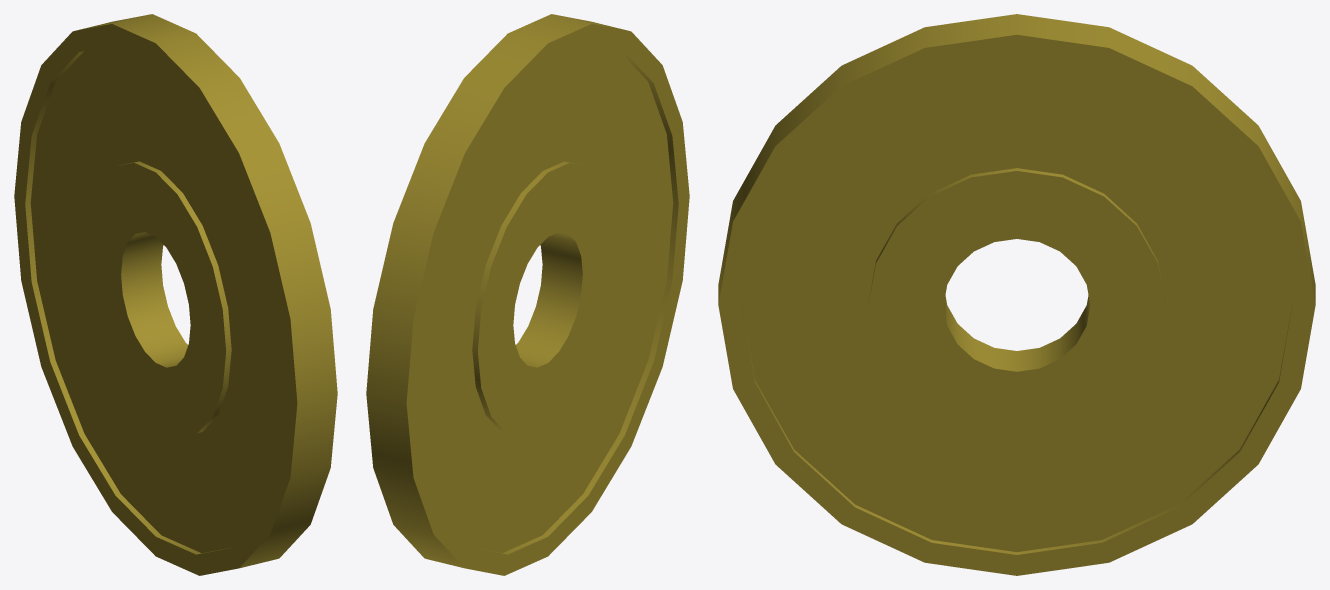
The model's file is coin.fbx.
3 renders of one model, left to right at view 1: azimuth 30°, elevation 25°; view 2: azimuth 150°, elevation 25°; view 3: azimuth 270°, elevation 25°, orthographic. The views are drawn at different scales.
Parts seen in each view (by area): view 1: coin; view 2: coin; view 3: coin.
Boxes of the visible parts, <box> form: coin: <box>14,14,337,575</box>; coin: <box>366,14,689,575</box>; coin: <box>718,14,1315,575</box>.
Bounding box in the file's own units: 8.79 × 107 × 107.
